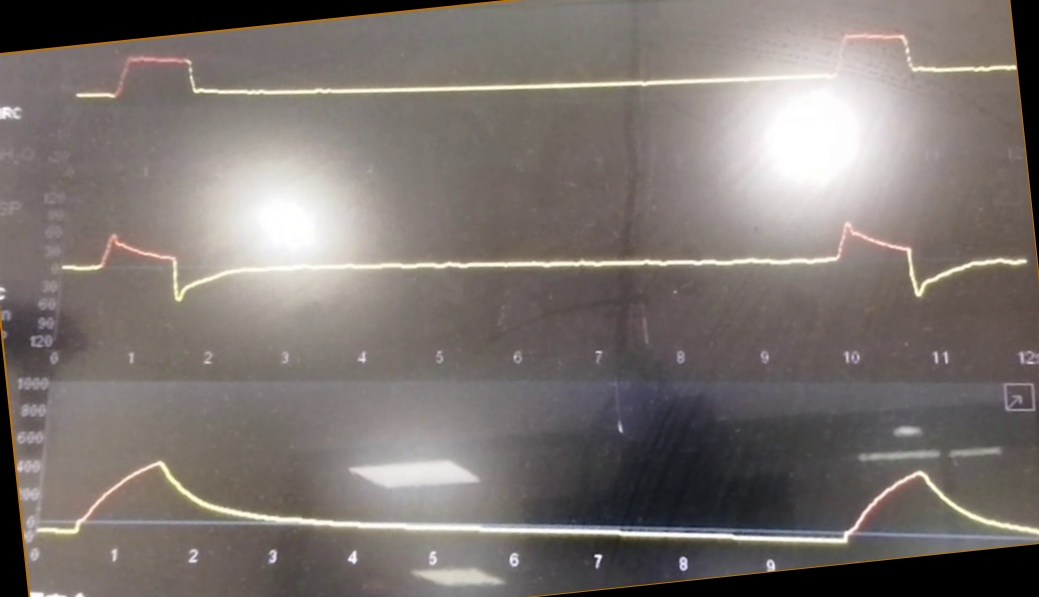Normal Flow: (63, 182, 1025, 330)
Normal Volume: (40, 428, 1039, 549)
